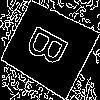B: (24, 22, 78, 74)
